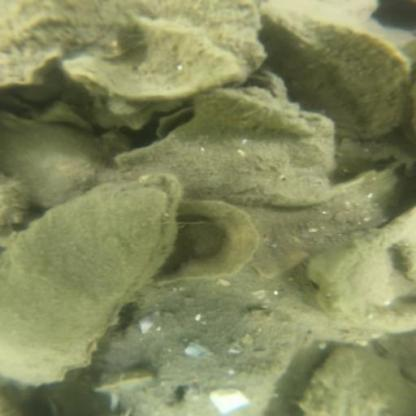Oyster- Indeterminate: (0, 174, 188, 395)
Oyster-Closed: (112, 91, 337, 202), (98, 305, 322, 415), (264, 6, 408, 132), (1, 3, 151, 88), (146, 0, 269, 76), (0, 115, 98, 206), (301, 348, 414, 415)
